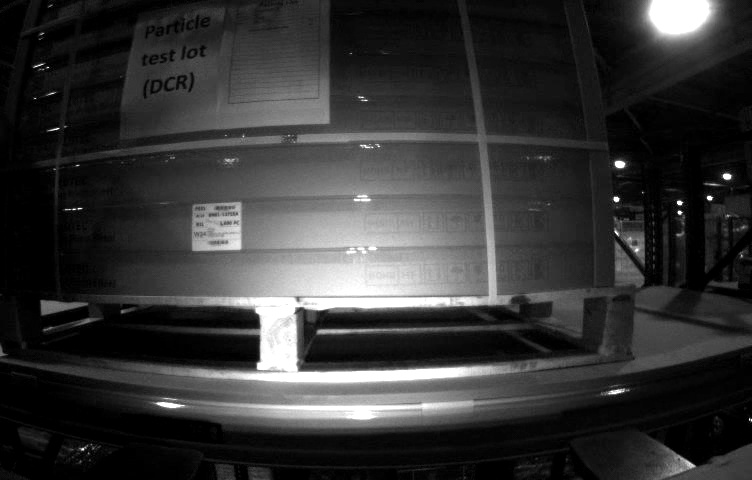True Barcode: (192, 204, 244, 251)
